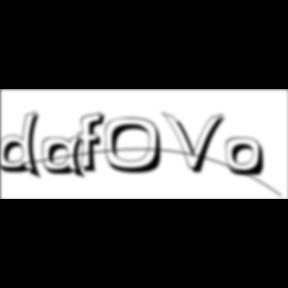O: (104, 117, 170, 176)
V: (162, 110, 230, 176)
a: (42, 135, 90, 182)
d: (0, 110, 48, 182)
f: (78, 111, 112, 175)
o: (225, 137, 267, 179)
